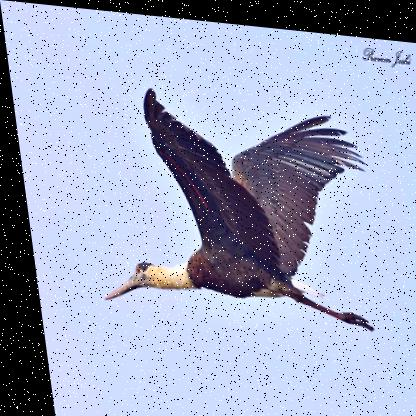Burung: (69, 78, 374, 329)
